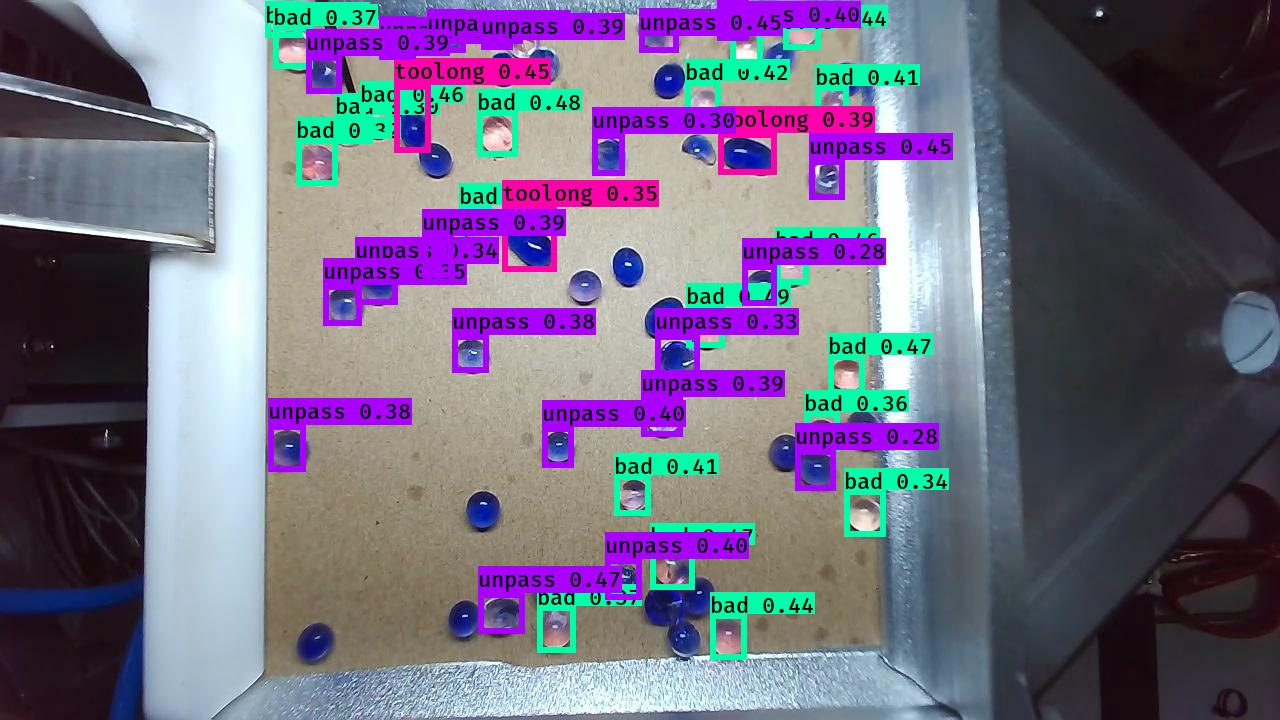bad: (272, 29, 321, 73), (476, 111, 520, 160), (649, 545, 695, 590), (295, 143, 342, 187), (781, 3, 821, 51), (685, 306, 727, 348), (706, 623, 747, 664), (813, 87, 852, 130), (845, 496, 886, 536), (687, 84, 725, 127), (506, 21, 543, 64), (359, 101, 395, 142), (538, 611, 574, 652), (773, 250, 812, 287), (828, 359, 867, 394), (731, 31, 765, 70), (267, 3, 304, 38), (614, 478, 651, 513), (653, 61, 685, 100), (329, 118, 365, 152), (804, 419, 838, 452)
defact: (680, 134, 717, 169)
pass: (644, 295, 686, 338), (296, 622, 336, 665), (530, 567, 569, 611), (643, 587, 686, 626), (847, 410, 882, 456), (465, 489, 502, 532), (446, 597, 481, 641), (610, 247, 645, 289), (826, 59, 865, 96), (769, 433, 804, 473), (667, 623, 703, 660), (686, 574, 715, 619), (419, 141, 451, 181), (656, 62, 684, 102), (486, 51, 517, 87)
toolong: (496, 210, 557, 272), (724, 131, 776, 183), (393, 87, 431, 151)
unpass: (267, 428, 313, 473), (657, 339, 702, 383), (481, 591, 522, 637), (638, 11, 676, 58), (359, 266, 398, 306), (325, 286, 363, 327), (457, 206, 493, 248), (381, 20, 419, 59), (803, 161, 841, 200), (742, 268, 781, 306), (308, 55, 345, 95), (428, 10, 465, 50), (799, 450, 836, 490), (593, 135, 628, 177), (566, 268, 603, 307), (418, 236, 454, 276), (645, 400, 681, 437), (452, 340, 488, 377), (541, 430, 577, 466), (481, 12, 514, 51), (762, 43, 798, 78), (607, 562, 641, 599), (716, 5, 748, 41), (525, 50, 559, 82)
